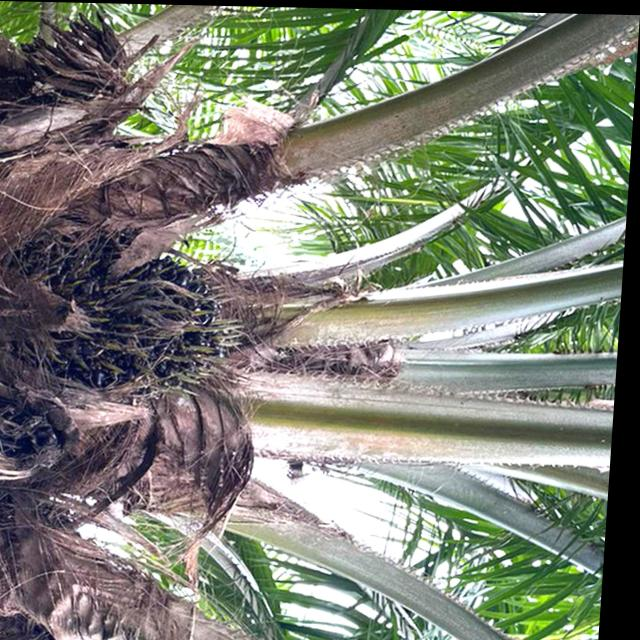unripe: (12, 214, 252, 422)
